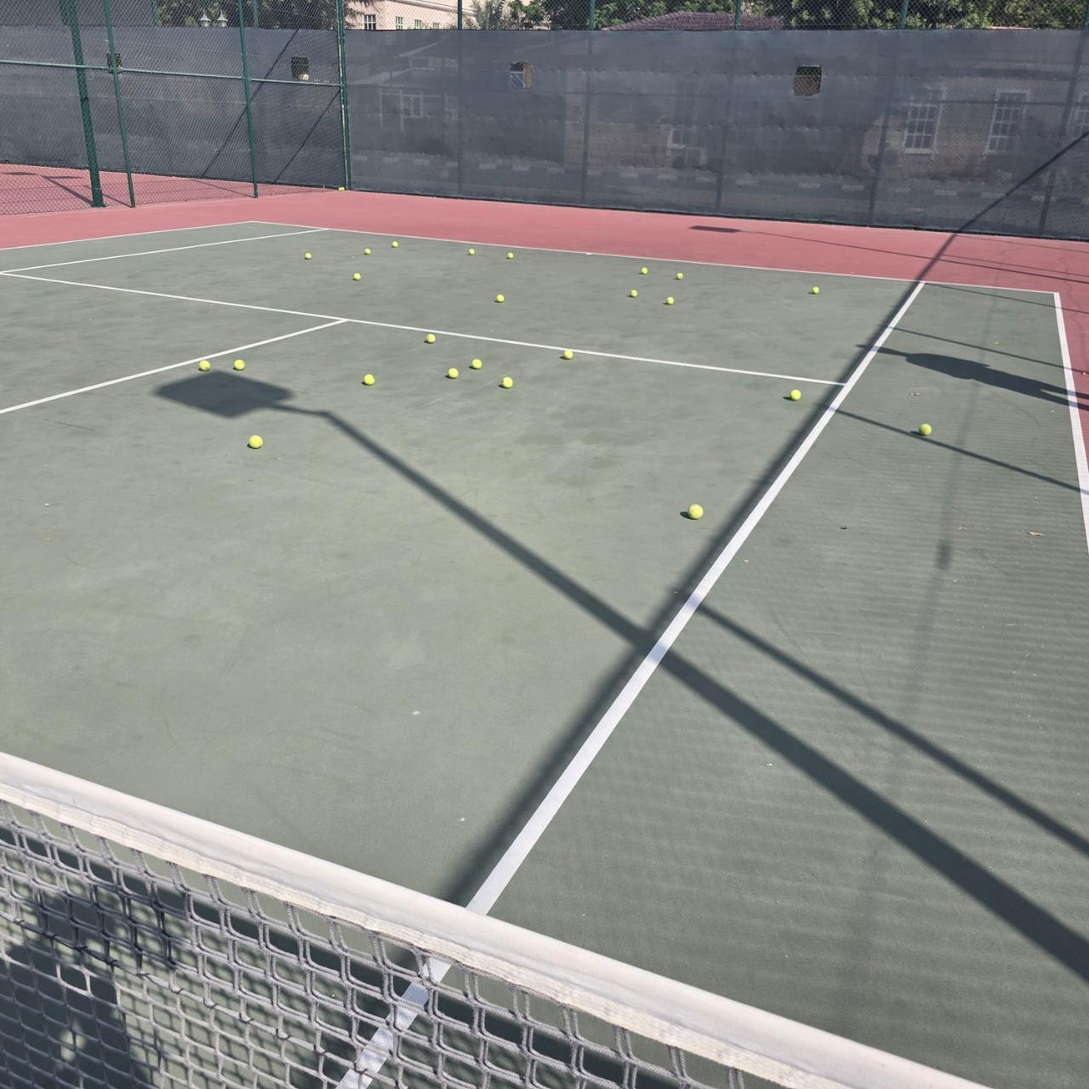tennis-ball: (687, 501, 704, 520), (246, 433, 262, 448), (499, 374, 514, 389), (918, 421, 932, 436), (231, 356, 245, 370), (445, 365, 459, 379), (197, 357, 210, 372), (788, 387, 801, 401), (362, 372, 375, 385), (469, 356, 482, 369), (561, 347, 573, 360), (425, 333, 436, 344), (495, 294, 505, 303), (811, 286, 820, 294), (353, 272, 361, 281), (666, 297, 674, 305), (629, 290, 637, 298), (304, 252, 312, 260), (676, 272, 683, 281), (392, 241, 399, 248), (468, 248, 475, 255), (641, 267, 647, 275), (365, 248, 371, 255), (507, 252, 513, 259), (338, 187, 345, 191)
